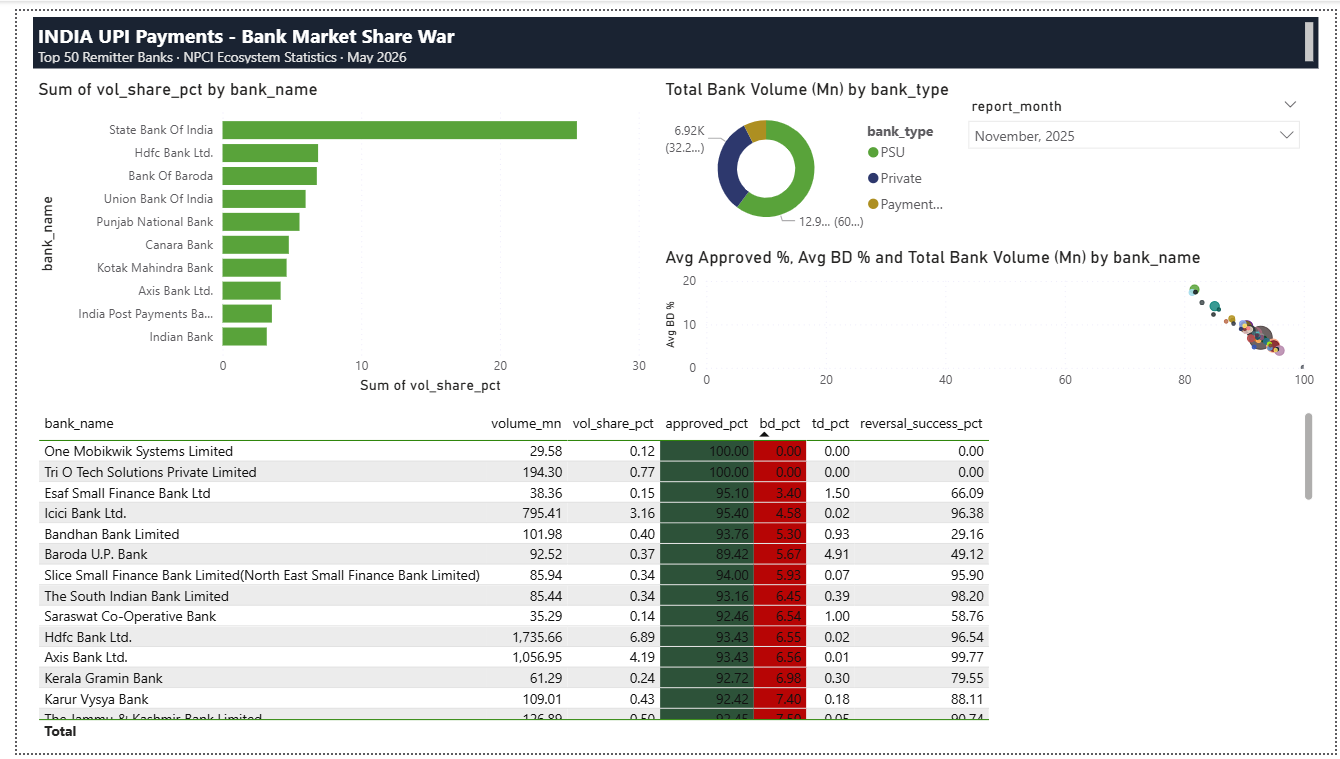

This screenshot's page, from the dashboard's own definition file:
{"tool":"powerbi","page":{"name":"Page 2","canvas":[1280,720],"ordinal":1},"visuals":[{"type":"textbox","box":[16,6,1248,50],"z":0},{"type":"barChart","fields":{"Category":["v_bank_market_share.bank_name"],"Y":["Sum(v_bank_market_share.vol_share_pct)"]},"box":[16,66,600,310],"z":1000},{"type":"donutChart","fields":{"Category":["upi_bank_performance.bank_type"],"Y":["upi_bank_performance.Total Bank Volume (Mn)"]},"box":[624,66,290,155],"z":2000},{"type":"slicer","fields":{"Values":["upi_bank_performance.report_month"]},"box":[913.6,78.2,341.8,154.5],"z":3000},{"type":"scatterChart","fields":{"X":["upi_bank_performance.Avg Approved %"],"Y":["upi_bank_performance.Avg BD %"],"Size":["upi_bank_performance.Total Bank Volume (Mn)"],"Series":["upi_bank_performance.bank_name"]},"box":[624,229,640,147.3],"z":4000},{"type":"tableEx","fields":{"Values":["v_bank_market_share.bank_name","v_bank_market_share.volume_mn","v_bank_market_share.vol_share_pct","v_bank_market_share.approved_pct","v_bank_market_share.bd_pct","v_bank_market_share.td_pct","v_bank_market_share.reversal_success_pct"]},"box":[16,384,1248,328],"z":5000}]}

Visuals, with their boxes in screenshot pixels (x1, y1, x2, y2), scaled from the page's 1280x720 canvas onto the 1340x759 screenshot:
textbox: 17:6:1323:59
barChart - v_bank_market_share.bank_name x Sum(v_bank_market_share.vol_share_pct): 17:70:645:396
donutChart - upi_bank_performance.bank_type x upi_bank_performance.Total Bank Volume (Mn): 653:70:957:233
slicer - upi_bank_performance.report_month: 956:82:1314:245
scatterChart - upi_bank_performance.Avg Approved % x upi_bank_performance.Avg BD %: 653:241:1323:397
tableEx - v_bank_market_share.bank_name x v_bank_market_share.volume_mn: 17:405:1323:751
